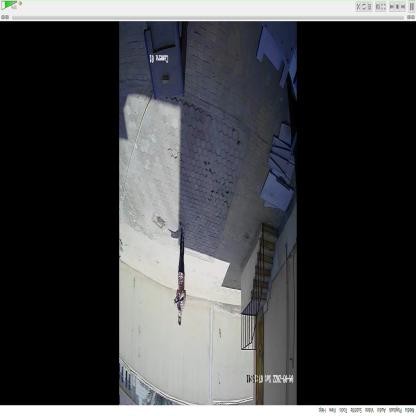handgun: (172, 292, 184, 308)
